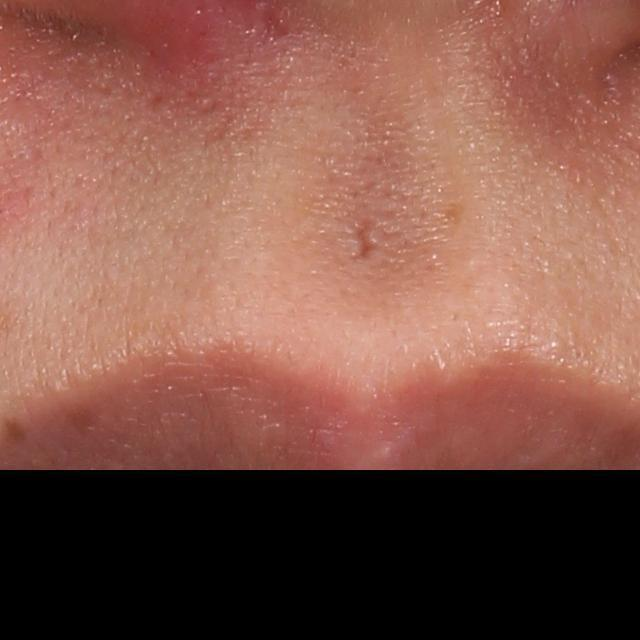atrophic_scar: (349, 213, 379, 267)
nevus: (1, 413, 29, 442)
